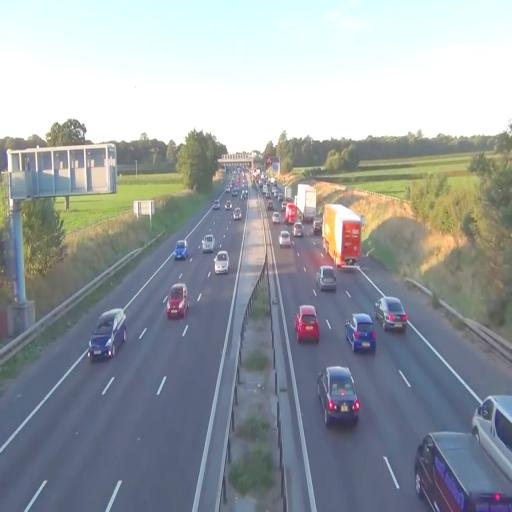vehicle: (414, 430, 512, 510), (471, 394, 512, 492), (317, 364, 361, 428), (322, 203, 364, 268), (88, 307, 128, 361), (345, 314, 377, 354), (380, 296, 408, 333), (295, 305, 320, 344), (295, 182, 317, 223), (166, 282, 188, 320), (382, 304, 408, 334), (315, 265, 337, 293), (214, 250, 230, 274), (200, 233, 216, 253), (174, 240, 188, 262), (278, 226, 292, 246), (292, 220, 304, 238)
